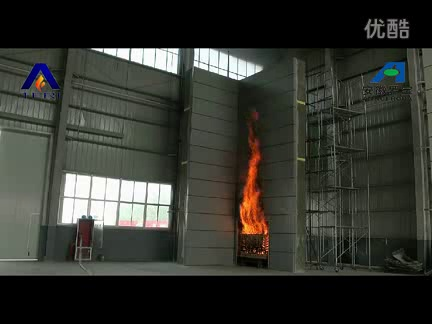fire: (237, 119, 267, 235)
